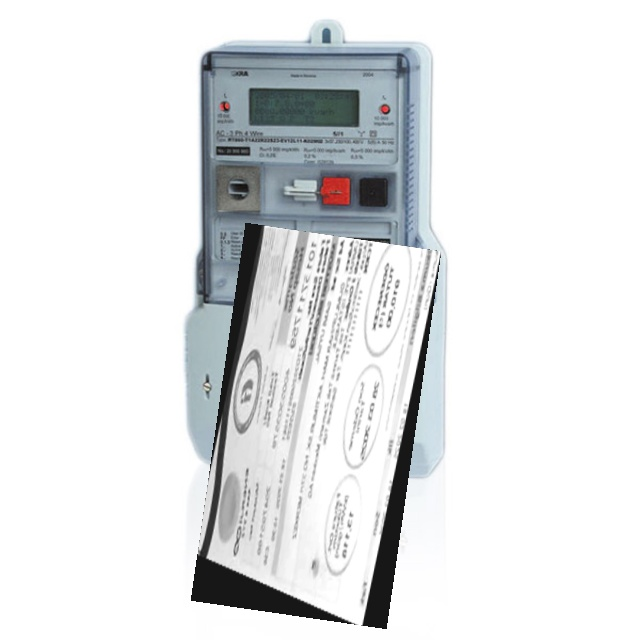electricity-bill: (191, 223, 441, 629)
